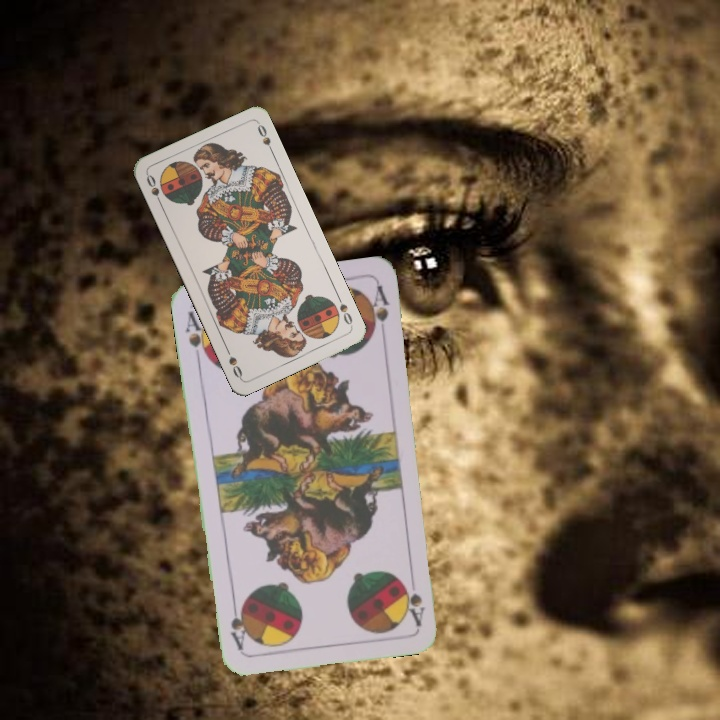SA: (181, 307, 212, 364), (402, 569, 428, 628)
SO: (142, 170, 165, 209), (333, 291, 355, 330)
